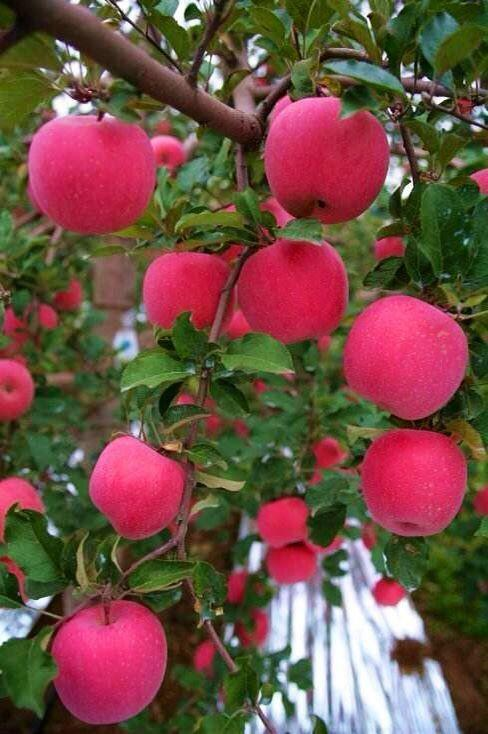apple: (262, 92, 389, 227), (25, 114, 160, 234), (343, 294, 470, 420), (47, 598, 168, 722), (357, 427, 471, 539), (235, 241, 351, 342), (85, 430, 188, 539), (140, 247, 228, 331), (1, 355, 35, 418)
